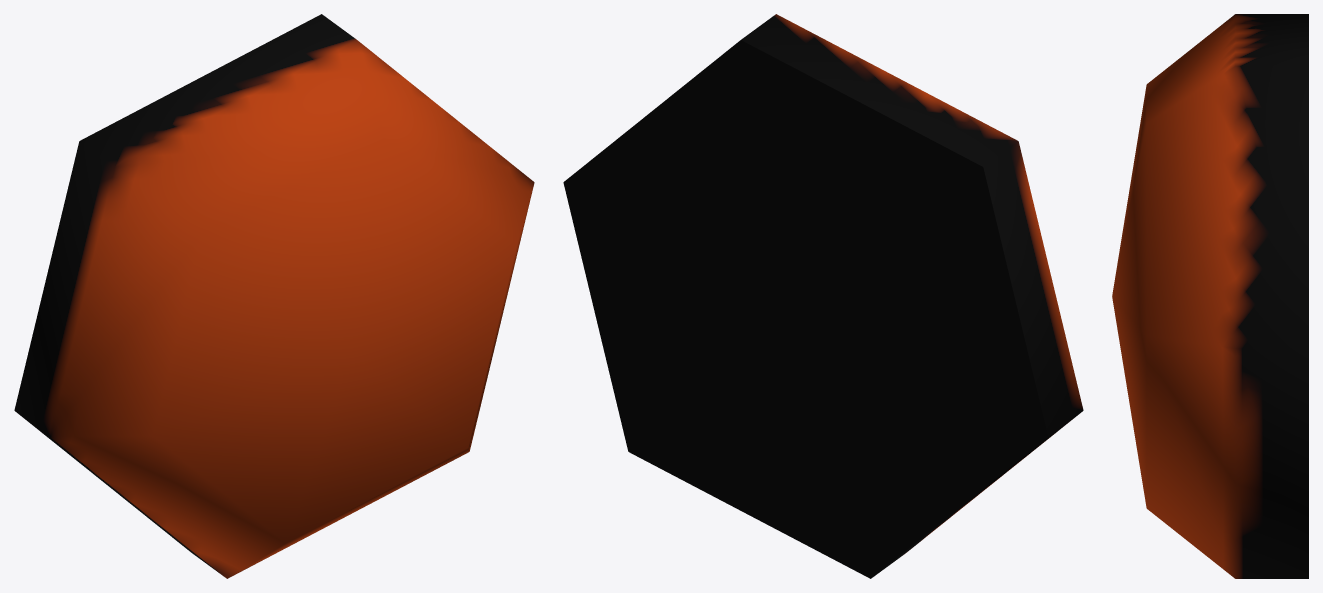
The model's file is MagnetD.FBX.
The picture shows the model from 3 angles, left to right: view 1: azimuth 30°, elevation 25°; view 2: azimuth 150°, elevation 25°; view 3: azimuth 270°, elevation 25°; orthographic projection. The views are drawn at different scales.
Visible parts, largest first — view 1: MagnetD; view 2: MagnetD; view 3: MagnetD.
Boxes of the visible parts, x1=… form: MagnetD: x1=14, y1=14, x2=534, y2=578; MagnetD: x1=563, y1=14, x2=1083, y2=578; MagnetD: x1=1112, y1=14, x2=1308, y2=578.
Bounding box in the file's own units: 0.9189 × 0.9189 × 0.3113.
